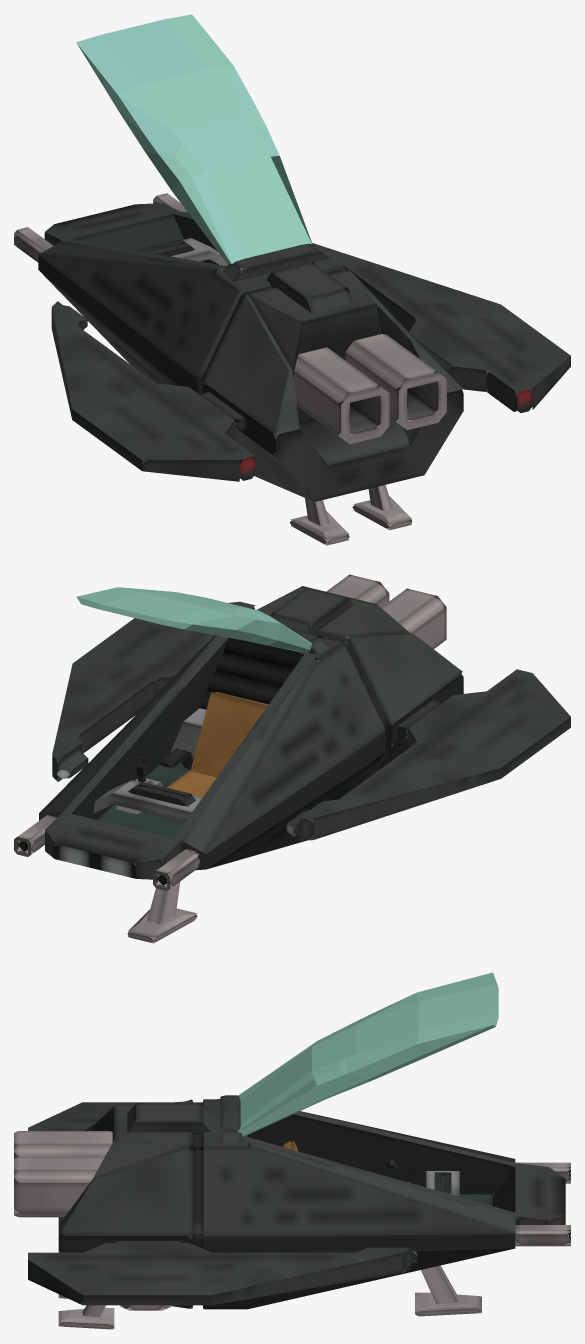
Rendered from SpaceshipModel.fbx.
3 views of the same model, one above another, from view 1: azimuth 30°, elevation 25°; view 2: azimuth 150°, elevation 25°; view 3: azimuth 270°, elevation 25° (orthographic). The views are drawn at different scales.
Visible parts, largest first — view 1: mainShip, wings, windshield, cube_1, cube_2, infotainmentSteering, foot2, foot3, cube; view 2: mainShip, wings, windshield, seat, infotainmentSteering, cube_1, foot1, cube_2, cube, leg1, cube_5, backPillar (+1 smaller); view 3: mainShip, wings, windshield, cube_2, cube_1, cube_5, foot1, foot3, leg1, infotainmentSteering.
Boxes of the visible parts, x1,y1,x2,y2 form: mainShip: (38,203,463,501); wings: (51,243,570,481); windshield: (76,14,312,271); cube_1: (293,347,389,444); cube_2: (345,334,446,430); infotainmentSteering: (137,238,227,265); foot2: (290,511,349,545); foot3: (352,496,412,530); cube: (14,227,53,262); mainShip: (39,586,463,879); wings: (52,601,570,840); windshield: (76,587,311,652); seat: (159,692,268,801); infotainmentSteering: (93,780,202,821); cube_1: (344,588,446,648); foot1: (127,908,197,943); cube_2: (315,574,389,663); cube: (153,849,200,890); leg1: (147,881,180,923); cube_5: (14,815,56,856); backPillar: (170,708,206,757); mainShip: (58,1095,565,1309); wings: (28,1102,417,1305); windshield: (237,972,498,1137); cube_2: (14,1157,104,1217); cube_1: (14,1131,112,1158); cube_5: (515,1225,570,1246); foot1: (415,1292,481,1316); foot3: (58,1307,114,1329); leg1: (421,1265,458,1304); infotainmentSteering: (426,1171,459,1196).
Size of the model in its own units: 256 by 191 by 313.
Materials: 2 (2 with a texture image).
